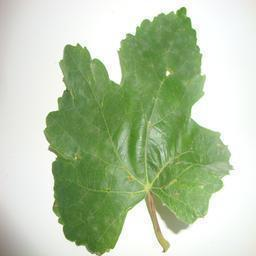Powdery-Mildew: (122, 14, 176, 58), (161, 25, 193, 55), (92, 222, 115, 250), (104, 211, 127, 231), (206, 162, 230, 180), (213, 140, 232, 158), (124, 166, 141, 186), (161, 66, 175, 87), (69, 152, 85, 164), (136, 44, 141, 46)
